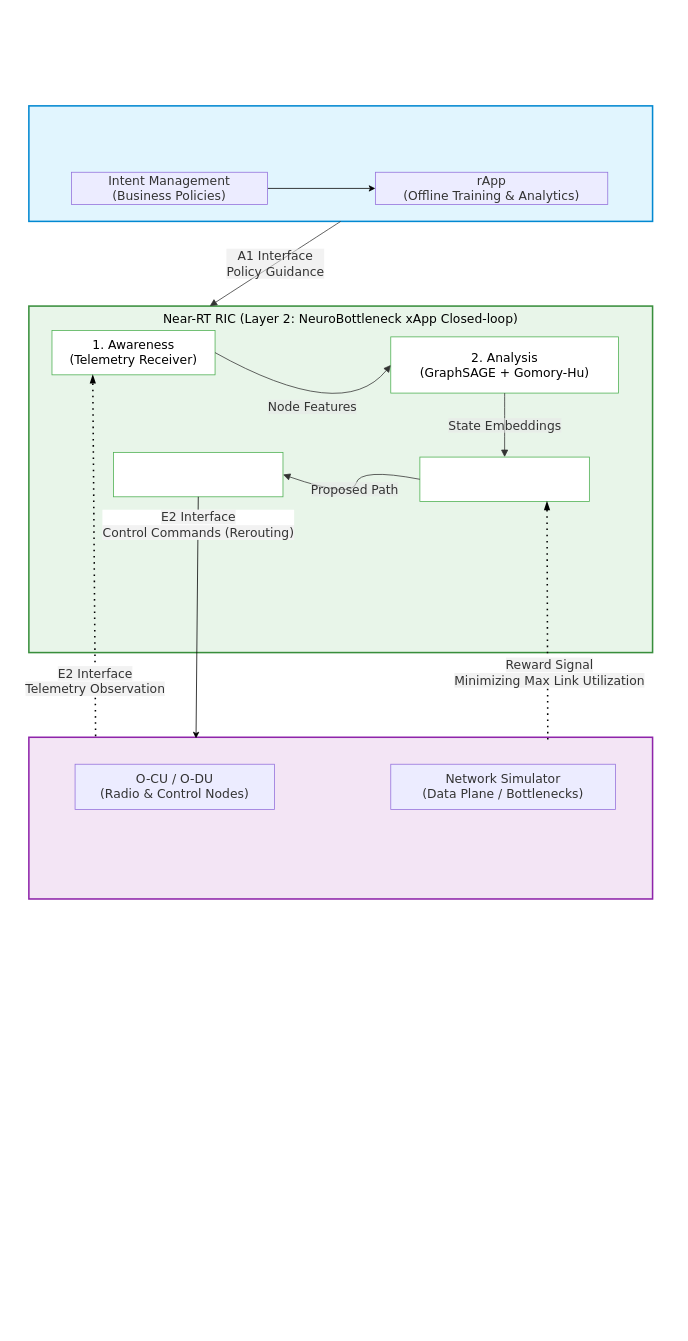
Image size: 688x1341. Some labels were removed from this diagram. Here are the shapes that lost their labels. From the top down, the box of each, then its label:
(28, 105, 653, 222): SMO / Non-RT RIC (Layer 1: Strategic Management)
(113, 452, 283, 497): 4. Safety Filter (Action Masking)
(419, 456, 589, 502): 3. Decision (DRL / PPO Agent)
(28, 736, 653, 899): Network Infrastructure (Layer 3: E2 Nodes & Topology)
